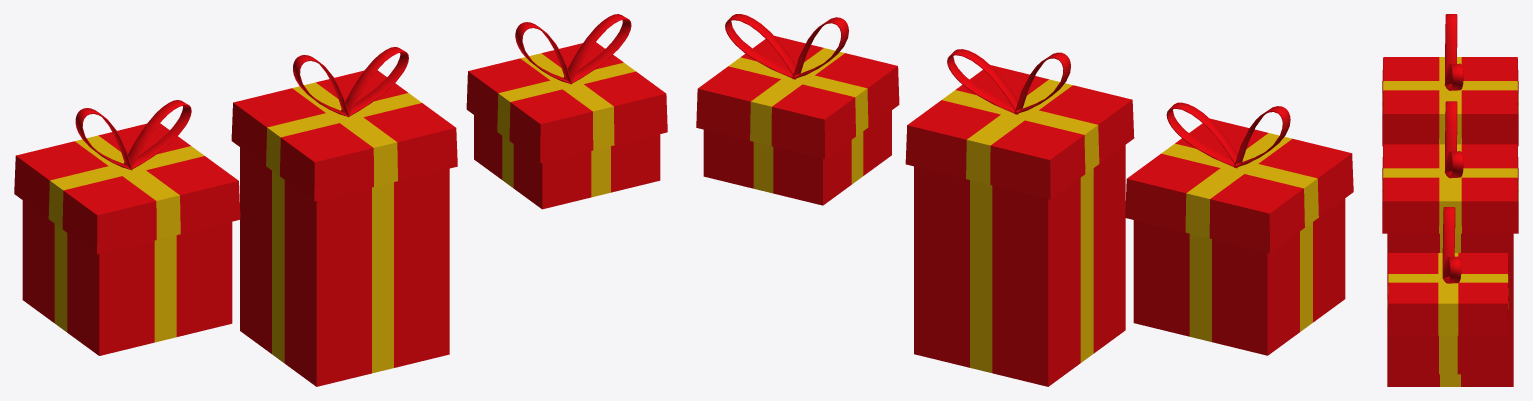
File: Gifts.fbx
3 views of the same model, side by side, from view 1: azimuth 30°, elevation 25°; view 2: azimuth 150°, elevation 25°; view 3: azimuth 270°, elevation 25° (orthographic). The views are drawn at different scales.
Visible parts, largest first — view 1: Gift.001, Gift.003, Gift.002; view 2: Gift.001, Gift.003, Gift.002; view 3: Gift.001, Gift.002, Gift.003.
Part boxes in pixels (x1=…): Gift.001: x1=231, y1=47, x2=457, y2=386; Gift.003: x1=14, y1=100, x2=240, y2=355; Gift.002: x1=466, y1=14, x2=667, y2=209; Gift.001: x1=905, y1=49, x2=1134, y2=386; Gift.003: x1=1125, y1=102, x2=1353, y2=355; Gift.002: x1=696, y1=14, x2=899, y2=205; Gift.001: x1=1382, y1=101, x2=1518, y2=386; Gift.002: x1=1387, y1=207, x2=1508, y2=374; Gift.003: x1=1382, y1=14, x2=1518, y2=146.
Size of the model in its own units: 867 by 423 by 216.
